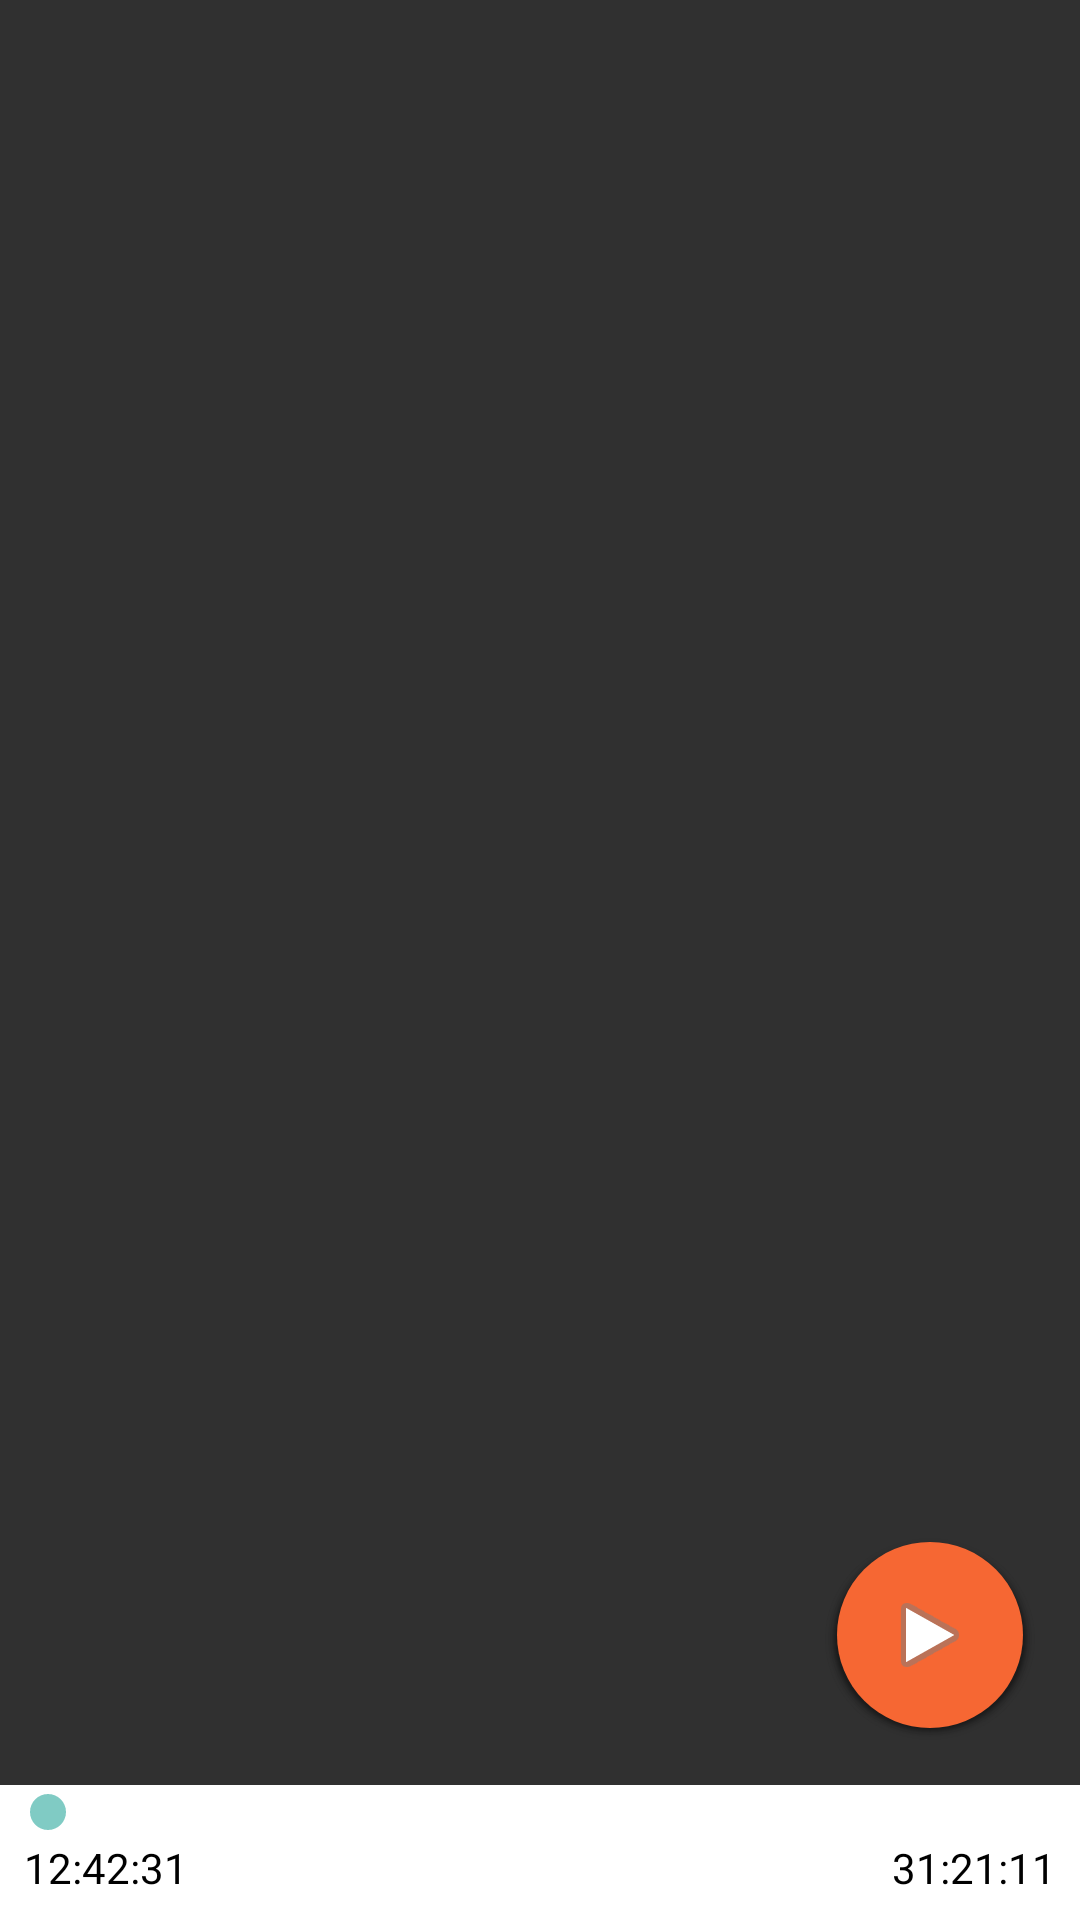

Locate icon controls on the screen. Image size 1080px×1920px, boxes as (left=x1, top=y1, right=x2, bottom=y2).
play: (left=837, top=1542, right=1023, bottom=1728)
